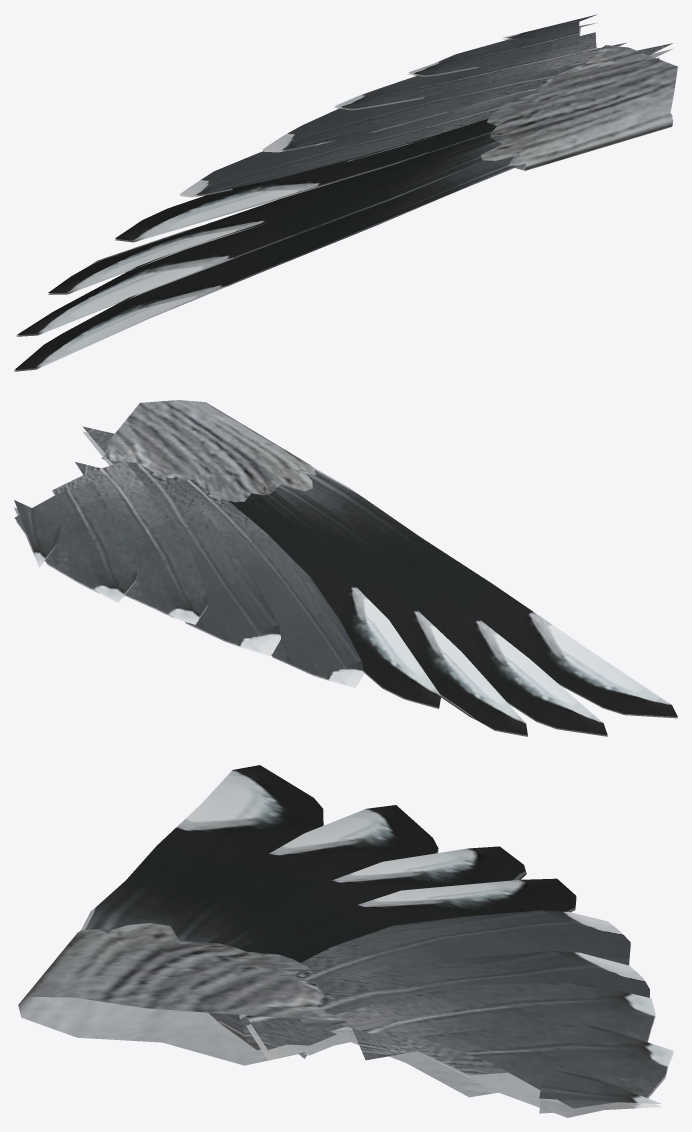
Rendered from Seagull_L_out.gltf.
3 views of the same model, one above another, from view 1: azimuth 30°, elevation 25°; view 2: azimuth 150°, elevation 25°; view 3: azimuth 270°, elevation 25° (orthographic). The views are drawn at different scales.
Visible parts, largest first — view 1: Seagull_L_out; view 2: Seagull_L_out; view 3: Seagull_L_out.
Boxes of the visible parts, x1,y1,x2,y2 form: Seagull_L_out: (14,14,677,371); Seagull_L_out: (14,400,677,736); Seagull_L_out: (18,765,673,1117).
Size of the model in its own units: 0.3235 by 0.0825 by 0.1545.
1 material, 1 textured.
